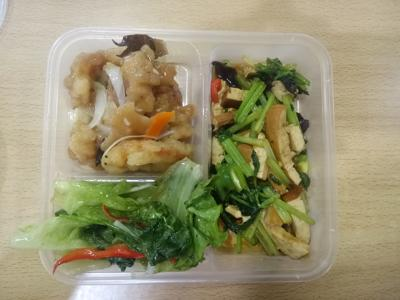gbr: (62, 38, 203, 172)
ymc: (47, 168, 212, 273)
